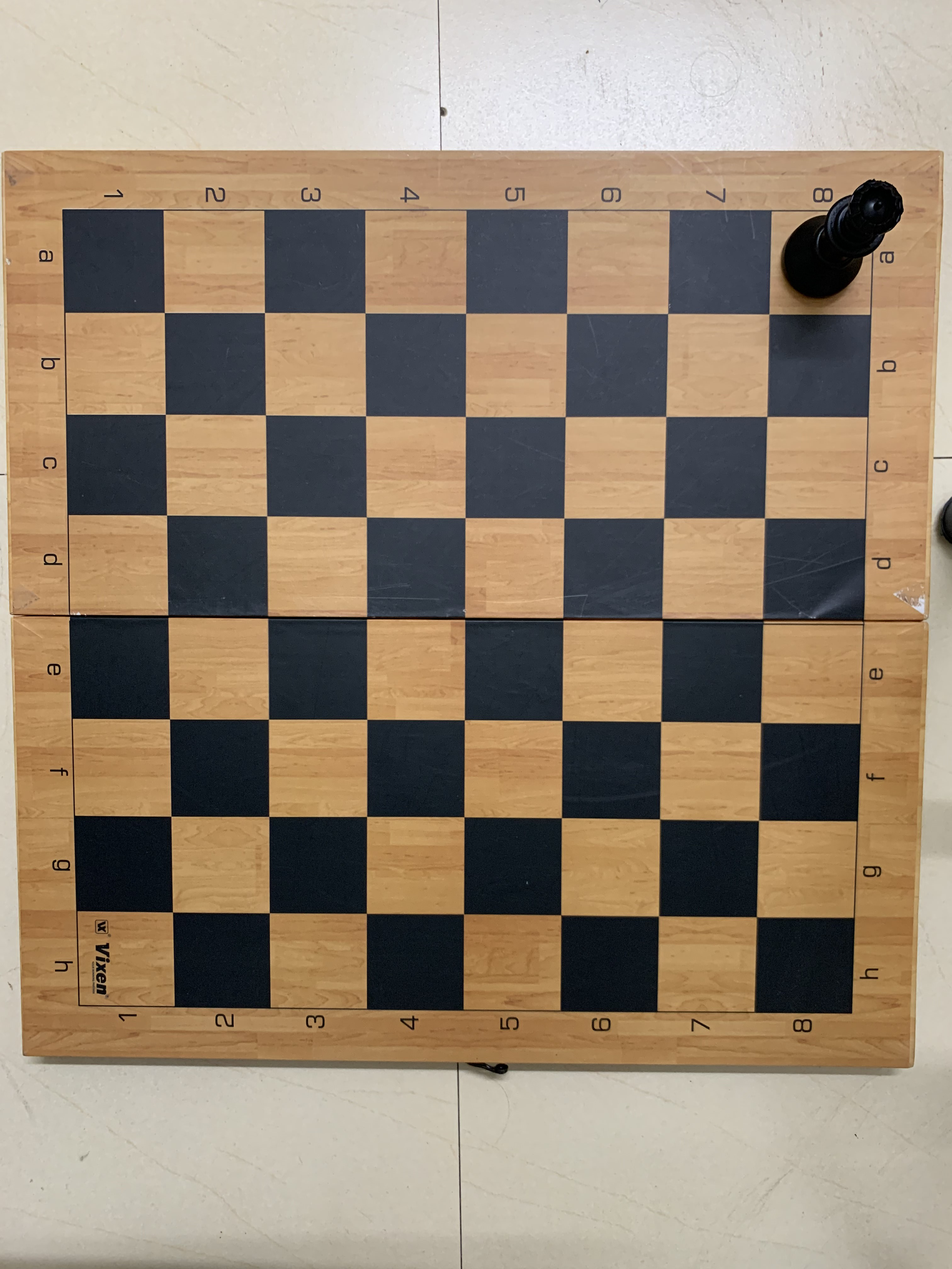black_queen: (778, 172, 920, 301)
